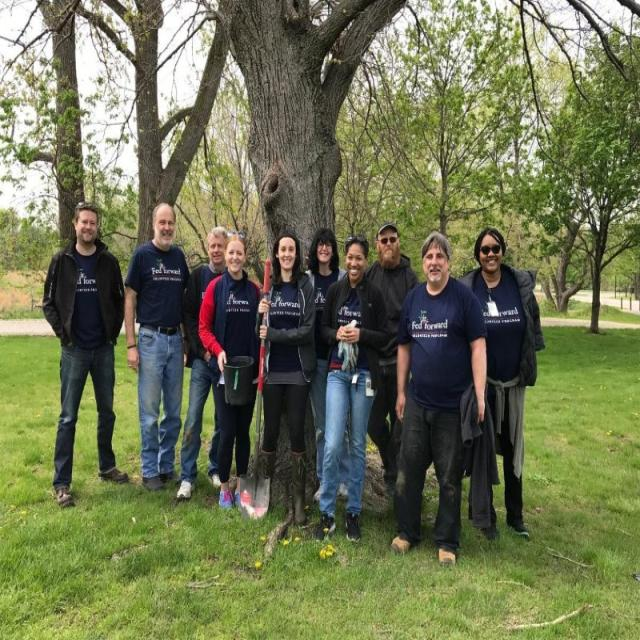body: (390, 228, 488, 566), (41, 197, 130, 511), (459, 227, 544, 540), (312, 232, 394, 545), (122, 199, 194, 494), (196, 228, 267, 511), (255, 230, 318, 528), (175, 224, 234, 501), (363, 221, 420, 496), (301, 228, 351, 504)
